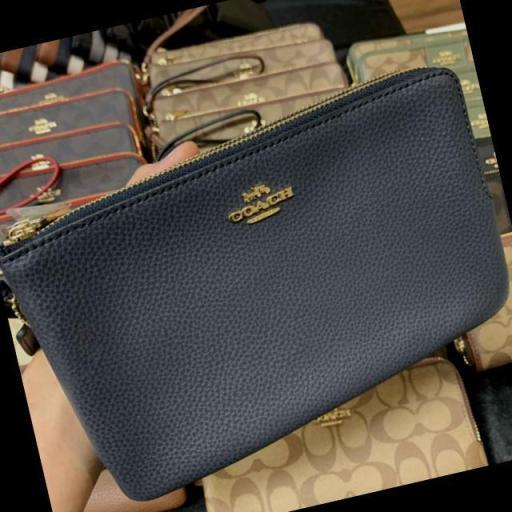bag: (8, 38, 512, 488)
